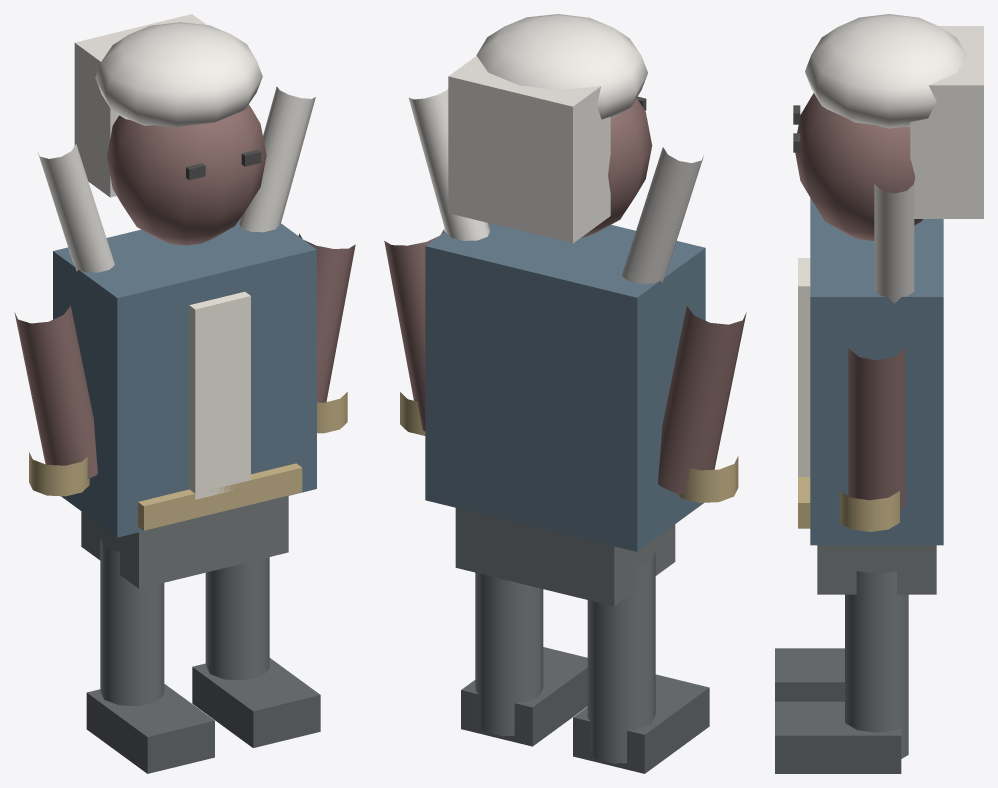
File: maelis-thorn.glb
3 renders of one model, left to right at view 1: azimuth 30°, elevation 25°; view 2: azimuth 150°, elevation 25°; view 3: azimuth 270°, elevation 25°, orthographic. The views are drawn at different scales.
Visible parts, largest first — view 1: Torso, Head, HairCap, Vest, Pelvis, ArmL, LegL, FootR, FootL, LegR, HairBack, HairR (+5 smaller); view 2: Torso, HairBack, Pelvis, HairCap, LegL, ArmL, LegR, FootL, HairL, FootR, ArmR, Head (+3 smaller); view 3: Torso, HairCap, Head, HairBack, LegR, ArmR, FootR, Pelvis, HairR, FootL, Vest, CuffR (+1 smaller).
Boxes of the visible parts, box(x1,y1,x2,y2) form: Torso: box(53, 219, 316, 537); Head: box(106, 104, 266, 245); HairCap: box(95, 22, 262, 127); Vest: box(189, 291, 250, 499); Pelvis: box(81, 496, 288, 588); ArmL: box(14, 306, 97, 478); LegL: box(100, 539, 164, 706); FootR: box(192, 658, 320, 747); FootL: box(86, 684, 214, 773); LegR: box(205, 557, 269, 680); HairBack: box(74, 14, 206, 197); HairR: box(239, 86, 315, 232); Torso: box(425, 223, 705, 551); HairBack: box(448, 56, 610, 243); Pelvis: box(455, 508, 675, 606); HairCap: box(476, 14, 647, 119); LegL: box(587, 553, 655, 763); ArmL: box(658, 306, 746, 493); LegR: box(475, 572, 543, 736); FootL: box(573, 674, 709, 773); HairL: box(622, 147, 703, 283); FootR: box(461, 647, 587, 746); ArmR: box(384, 229, 444, 431); Head: box(581, 98, 652, 237); Torso: box(810, 198, 943, 545); HairCap: box(805, 14, 967, 128); Head: box(795, 93, 922, 240); HairBack: box(910, 26, 983, 218); LegR: box(845, 571, 908, 758); ArmR: box(848, 348, 905, 510); FootR: box(775, 701, 901, 773); Pelvis: box(817, 545, 936, 594); HairR: box(874, 184, 914, 303); FootL: box(775, 648, 844, 701); Vest: box(798, 258, 810, 476); CuffR: box(839, 491, 899, 531).
Bounding box in the file's own units: 1.14 × 2.21 × 0.595.
